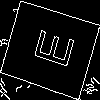E: (25, 24, 75, 70)
